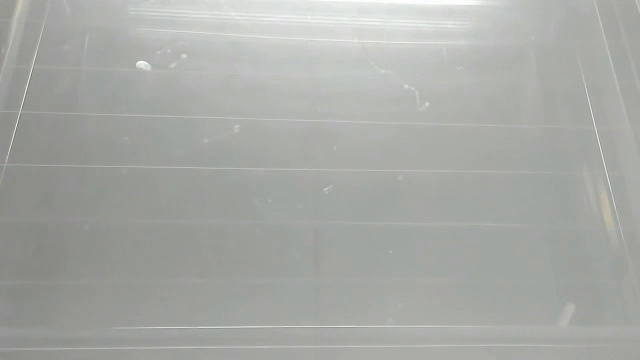alpha: (554, 299, 578, 330), (131, 59, 156, 74)
